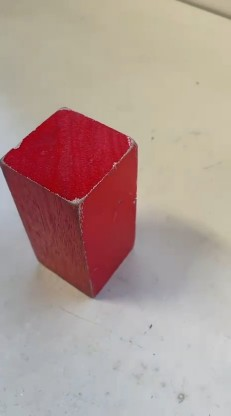red: (16, 94, 165, 300)
